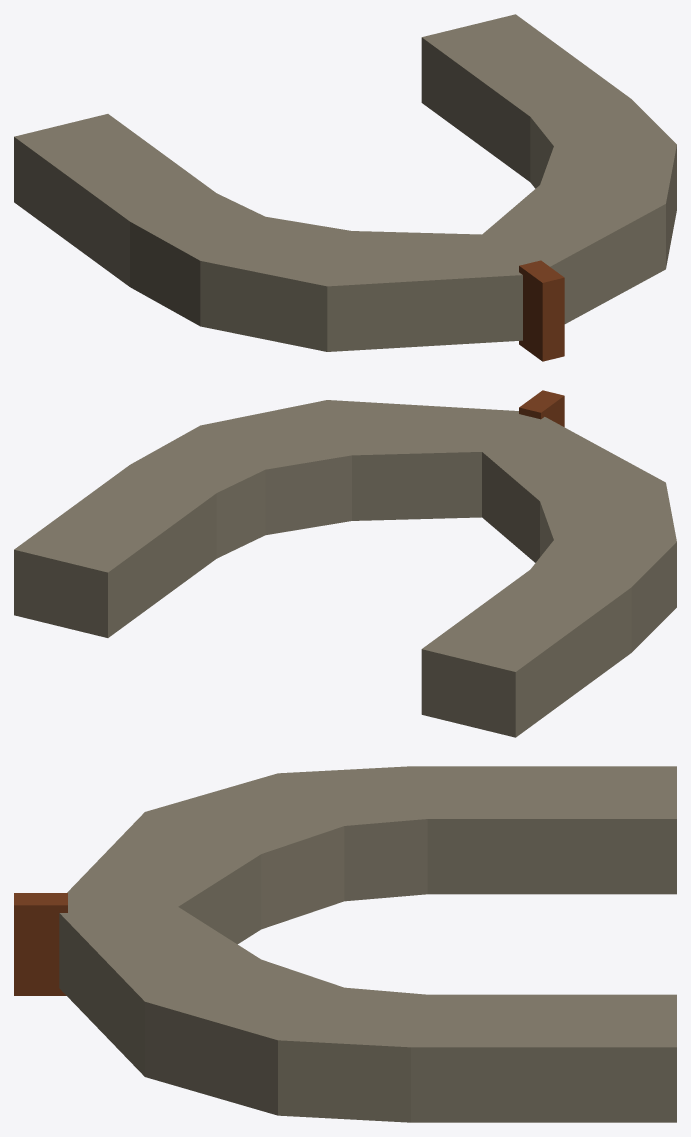
Rendered from SM_AEON_PointedArch_8m.obj.
3 views of the same model, one above another, from view 1: azimuth 30°, elevation 25°; view 2: azimuth 150°, elevation 25°; view 3: azimuth 270°, elevation 25° (orthographic). The views are drawn at different scales.
Visible parts, largest first — view 1: SM_AEON_PointedArch_8m; view 2: SM_AEON_PointedArch_8m; view 3: SM_AEON_PointedArch_8m.
Boxes of the visible parts, x1=… form: SM_AEON_PointedArch_8m: x1=14, y1=14, x2=676, y2=361; SM_AEON_PointedArch_8m: x1=14, y1=390, x2=676, y2=737; SM_AEON_PointedArch_8m: x1=14, y1=766, x2=676, y2=1122.
Bounding box in the file's own units: 800 × 120 × 798.
